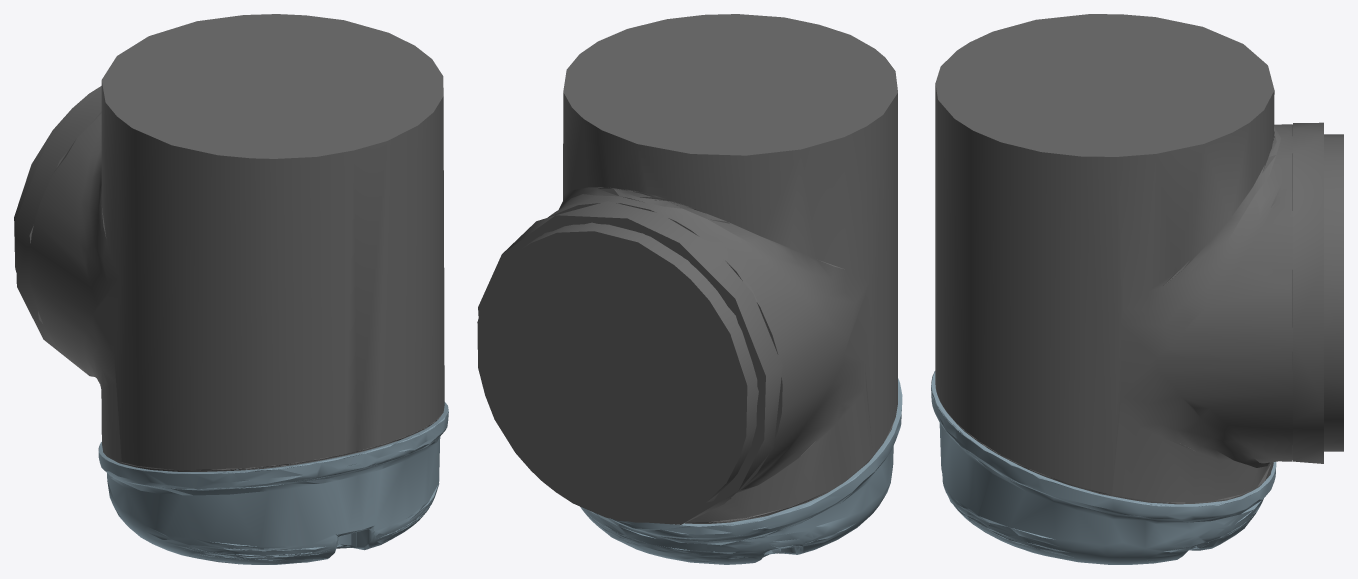
The picture shows the model from 3 angles, left to right: view 1: azimuth 30°, elevation 25°; view 2: azimuth 150°, elevation 25°; view 3: azimuth 270°, elevation 25°; orthographic projection. The views are drawn at different scales.
Parts seen in each view (by area): view 1: node2, node0, node1; view 2: node2, node0, node1; view 3: node2, node0, node1.
Boxes of the visible parts, box(x1,y1,x2,y2) form: node2: box(14, 14, 444, 471); node0: box(98, 402, 448, 564); node1: box(15, 88, 101, 376); node2: box(477, 14, 897, 523); node0: box(580, 378, 902, 564); node1: box(478, 201, 782, 524); node2: box(935, 14, 1343, 504); node0: box(931, 371, 1276, 564); node1: box(1293, 122, 1323, 463).
Bounding box in the file's own units: 0.0644 × 0.0887 × 0.0768.
